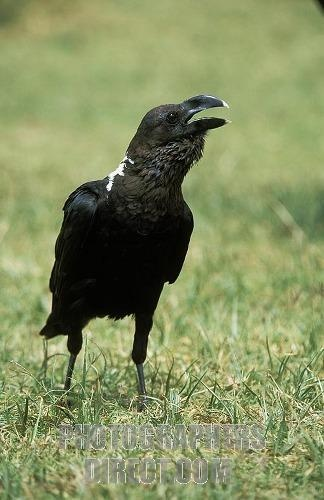bird: (39, 91, 233, 413)
